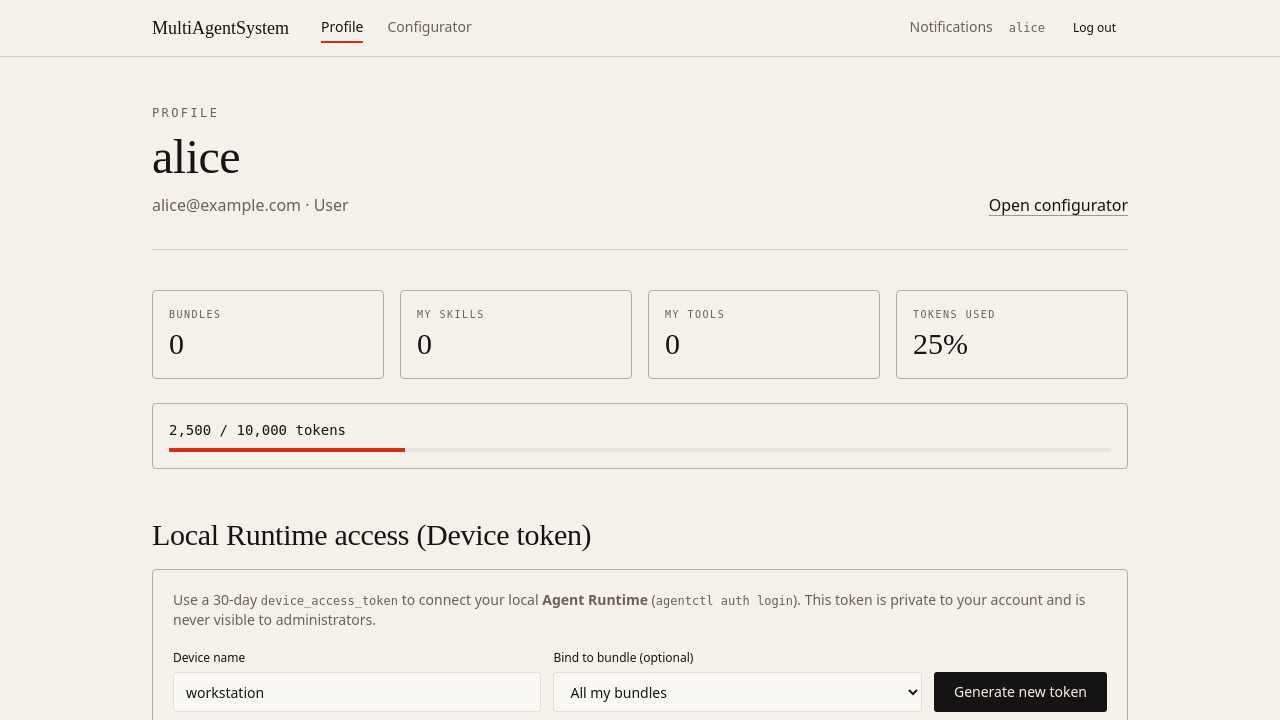
Test: login page › logging out returns to the login page
Expected: the heading "alice" is shown, [152, 130, 240, 183]
Click the button "Log out".
click(1094, 28)  # box [1061, 12, 1128, 44]
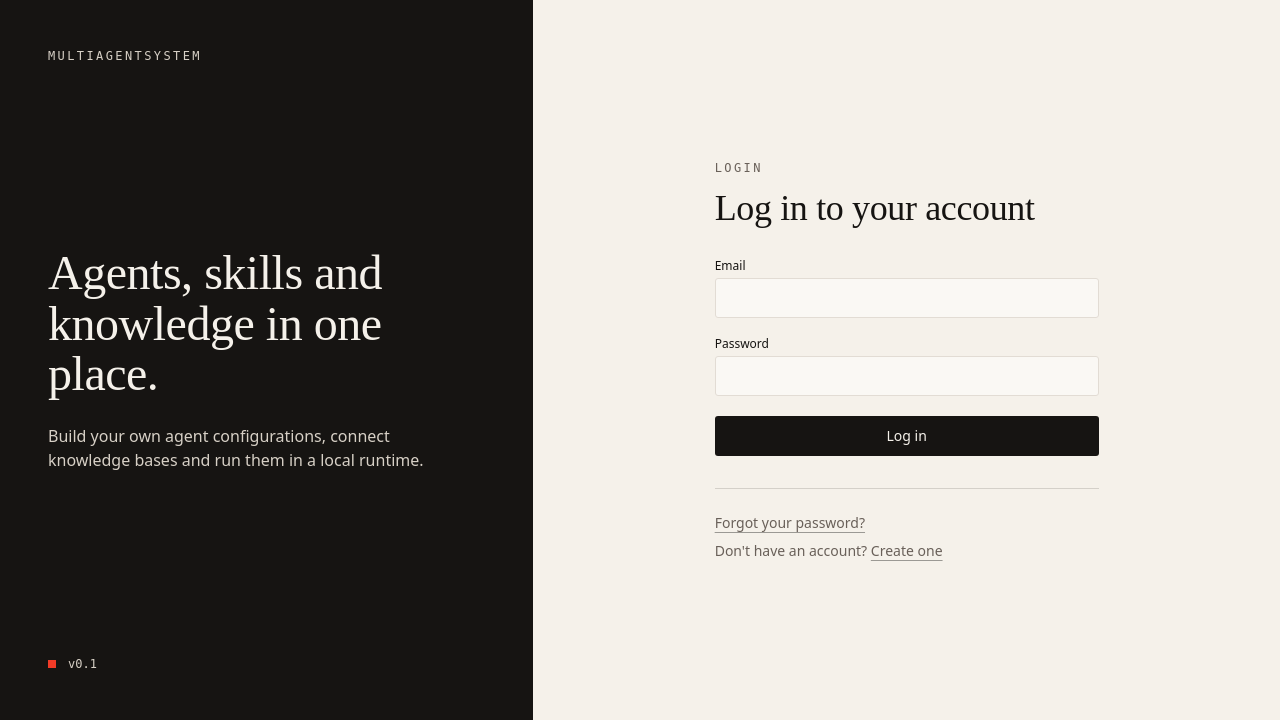
Result: the heading "Log in to your account" is shown at [715, 188, 1035, 228]
